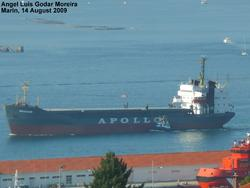Cargoship: (5, 47, 238, 139)
